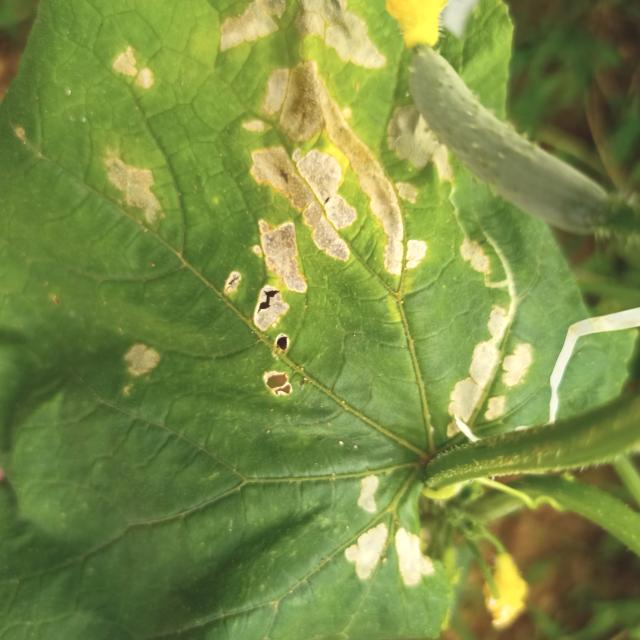disease_cucumber: (102, 0, 530, 436), (343, 471, 433, 587)
